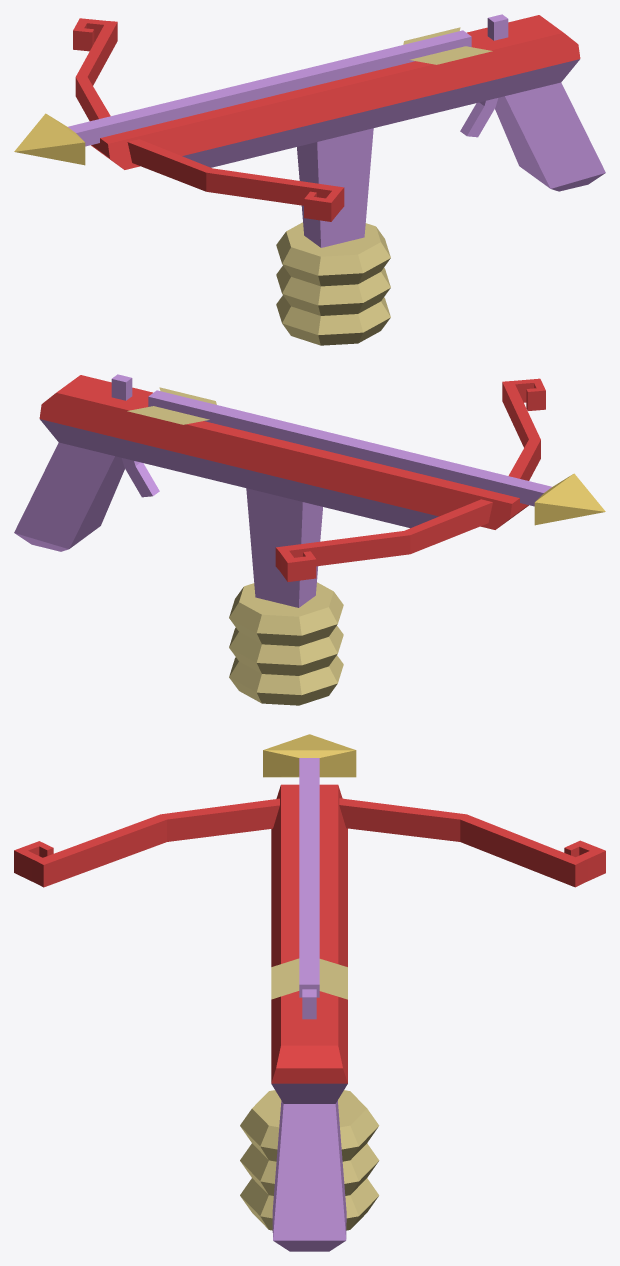
File: harpoenLosXpV2.fbx
3 views of the same model, one above another, from view 1: azimuth 30°, elevation 25°; view 2: azimuth 150°, elevation 25°; view 3: azimuth 270°, elevation 25° (orthographic). The views are drawn at different scales.
Visible parts, largest first — view 1: harpoen_los, harpoenpijl_los; view 2: harpoen_los, harpoenpijl_los; view 3: harpoen_los, harpoenpijl_los.
Part boxes in pixels (x1,y1,x2,y2): harpoen_los: (73,14,605,345); harpoenpijl_los: (14,27,492,165); harpoen_los: (14,374,545,705); harpoenpijl_los: (127,387,605,525); harpoen_los: (14,784,605,1251); harpoenpijl_los: (263,734,356,999).
Size of the model in its own units: 10.2 by 4.52 by 7.73.
